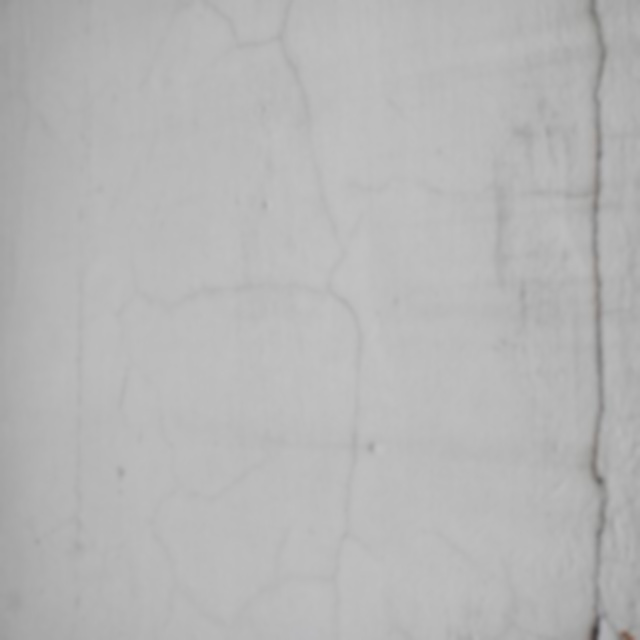SurfaceCrack: (545, 0, 640, 639)
